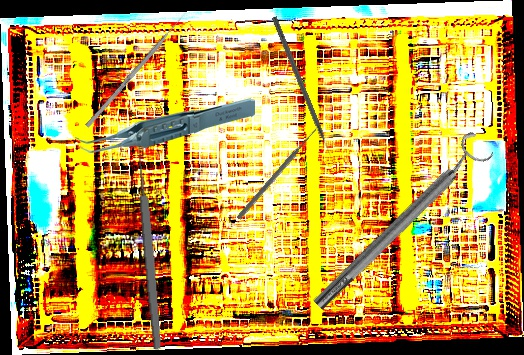Fixation Ring: (303, 128, 497, 319)
Hook Surgical: (269, 16, 334, 159)
Pusher: (85, 10, 188, 129), (235, 126, 320, 221)
Surgical Spoon: (132, 128, 164, 352)
Tissue Forceps: (74, 93, 256, 156)
